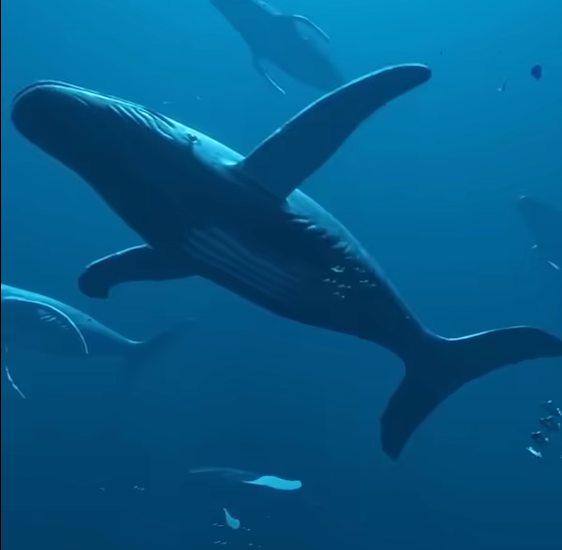dolphin: (22, 45, 554, 492), (530, 65, 542, 81)
